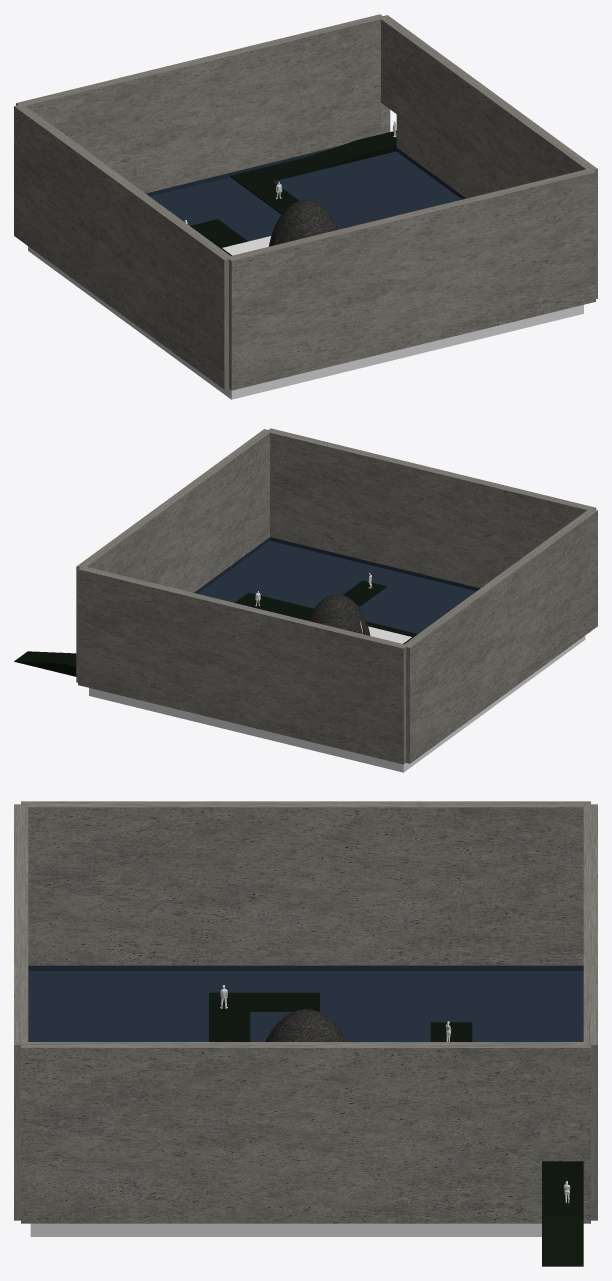
Rendered from CV_Aqvam_Ambient.glb.
3 views of the same model, one above another, from view 1: azimuth 30°, elevation 25°; view 2: azimuth 150°, elevation 25°; view 3: azimuth 270°, elevation 25° (orthographic). The views are drawn at different scales.
Parts seen in each view (by area): view 1: Left, Left.001, Left.002, Left.003, Fondo.001, Room_Pavment, cupola feltro aperta, Passerella Esterno, Cube.016, Cube.015, Bordo F; view 2: Left.001, Left, Left.002, Left.003, Fondo.001, Room_Pavment, cupola feltro aperta, Passerella Esterno, Cube.020, Bordo B, Cube.018; view 3: Left.003, Left.002, Fondo.001, Room_Pavment, Left.001, Left, Passerella Esterno, Bordo R, Cube.017, cupola feltro aperta, Cube.024, Cube.023.
Boxes of the visible parts, left/top/right/bottom form: Left: left=226, top=168, right=595, bottom=390; Left.001: left=16, top=14, right=384, bottom=193; Left.002: left=14, top=105, right=230, bottom=389; Left.003: left=381, top=15, right=597, bottom=298; Fondo.001: left=150, top=151, right=461, bottom=255; Room_Pavment: left=28, top=246, right=583, bottom=399; cupola feltro aperta: left=269, top=200, right=338, bottom=246; Passerella Esterno: left=308, top=130, right=396, bottom=169; Cube.016: left=230, top=169, right=299, bottom=214; Cube.015: left=254, top=156, right=373, bottom=181; Bordo F: left=146, top=147, right=335, bottom=196; Left.001: left=78, top=566, right=407, bottom=764; Left: left=266, top=428, right=596, bottom=588; Left.002: left=404, top=508, right=597, bottom=763; Left.003: left=76, top=429, right=269, bottom=682; Fondo.001: left=198, top=541, right=476, bottom=633; Room_Pavment: left=89, top=636, right=585, bottom=772; cupola feltro aperta: left=308, top=594, right=370, bottom=635; Passerella Esterno: left=14, top=651, right=76, bottom=676; Cube.020: left=235, top=592, right=368, bottom=623; Bordo B: left=270, top=537, right=479, bottom=590; Cube.018: left=343, top=580, right=386, bottom=606; Left.003: left=21, top=1042, right=590, bottom=1223; Left.002: left=21, top=801, right=590, bottom=965; Fondo.001: left=28, top=971, right=583, bottom=1041; Room_Pavment: left=30, top=1223, right=541, bottom=1236; Left.001: left=583, top=804, right=597, bottom=1220; Left: left=14, top=804, right=28, bottom=1220; Passerella Esterno: left=542, top=1161, right=583, bottom=1266; Bordo R: left=28, top=965, right=583, bottom=970; Cube.017: left=209, top=993, right=250, bottom=1041; cupola feltro aperta: left=265, top=1009, right=346, bottom=1041; Cube.024: left=209, top=992, right=319, bottom=1011; Cube.023: left=430, top=1022, right=472, bottom=1041.
Size of the model in its own units: 50.24 by 15.58 by 42.08.
Materials: 6 (4 with a texture image).
